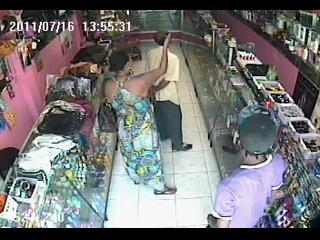Normal: (99, 46, 177, 196), (206, 108, 288, 228), (145, 31, 193, 152)
